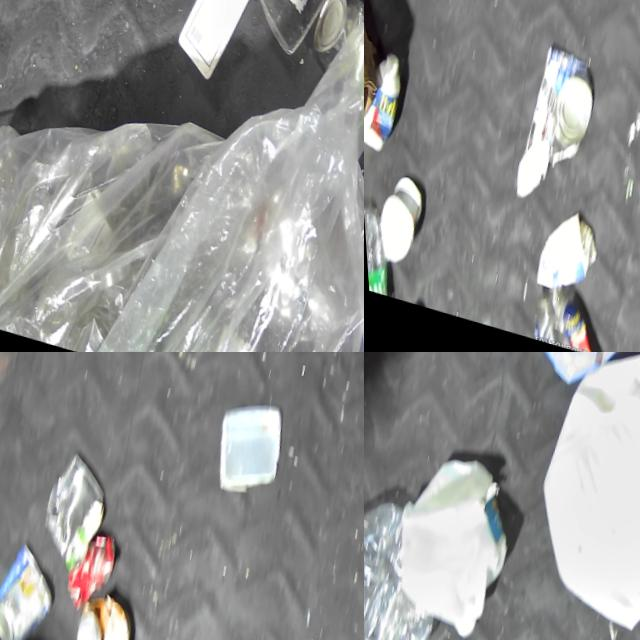can: (505, 39, 604, 197), (27, 444, 115, 577), (0, 531, 62, 640), (53, 520, 120, 617), (299, 0, 364, 79), (58, 582, 136, 640)
milk_jug: (504, 352, 640, 640), (365, 426, 526, 640), (159, 0, 277, 87)
plastic_bottle: (364, 478, 459, 640), (364, 200, 398, 296)
